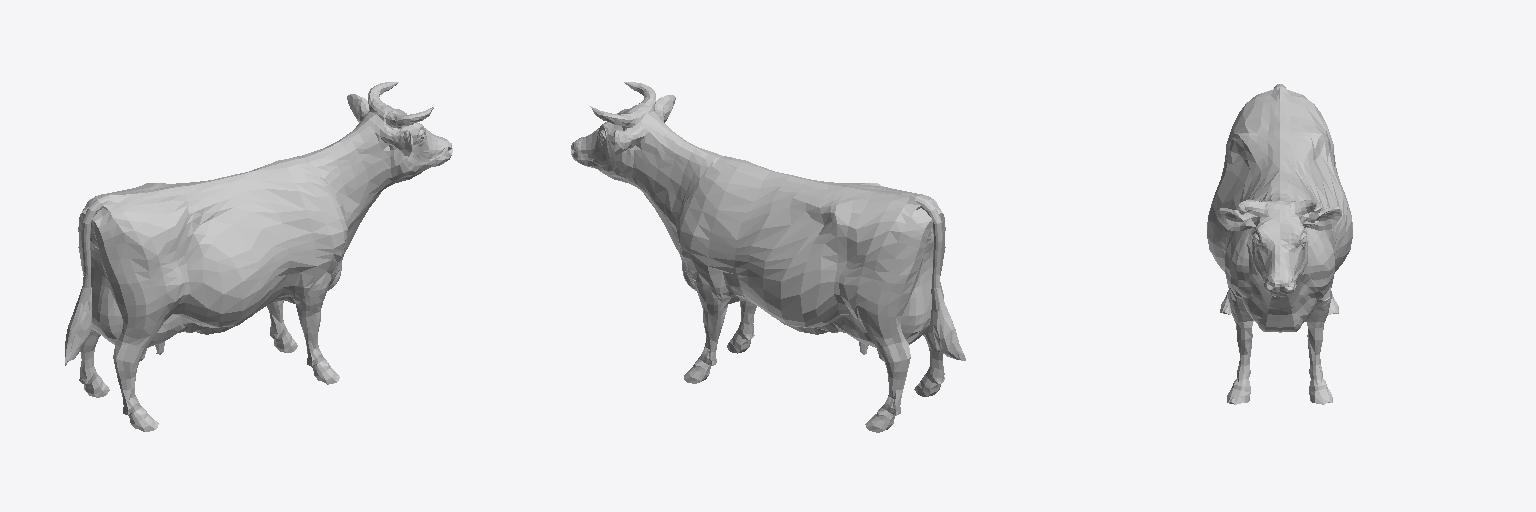
Rendered from cow.obj.
The picture shows the model from 3 angles: view 1: azimuth 30°, elevation 25°; view 2: azimuth 150°, elevation 25°; view 3: azimuth 270°, elevation 25°; orthographic projection.
Visible parts, largest first — view 1: default; view 2: default; view 3: default.
Part boxes in pixels (bbox=[...]): default: bbox=[65, 82, 452, 431]; default: bbox=[571, 82, 965, 432]; default: bbox=[1207, 84, 1352, 404].
Bounding box in the file's own units: 29.58 × 17.87 × 9.61.